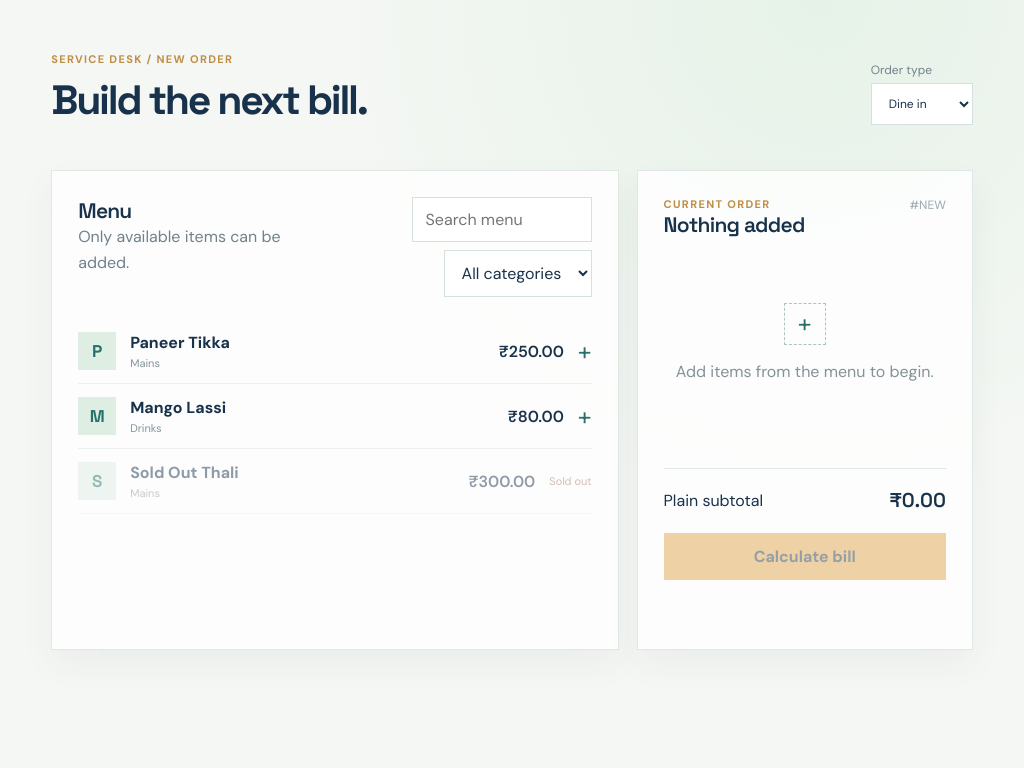
Test: NewOrder › shows the static payment screen after finalizing the bill
Step 1. Click the button "P Paneer Tikka Mains ₹250.00 +" → (97,351), box [78,319,592,384]
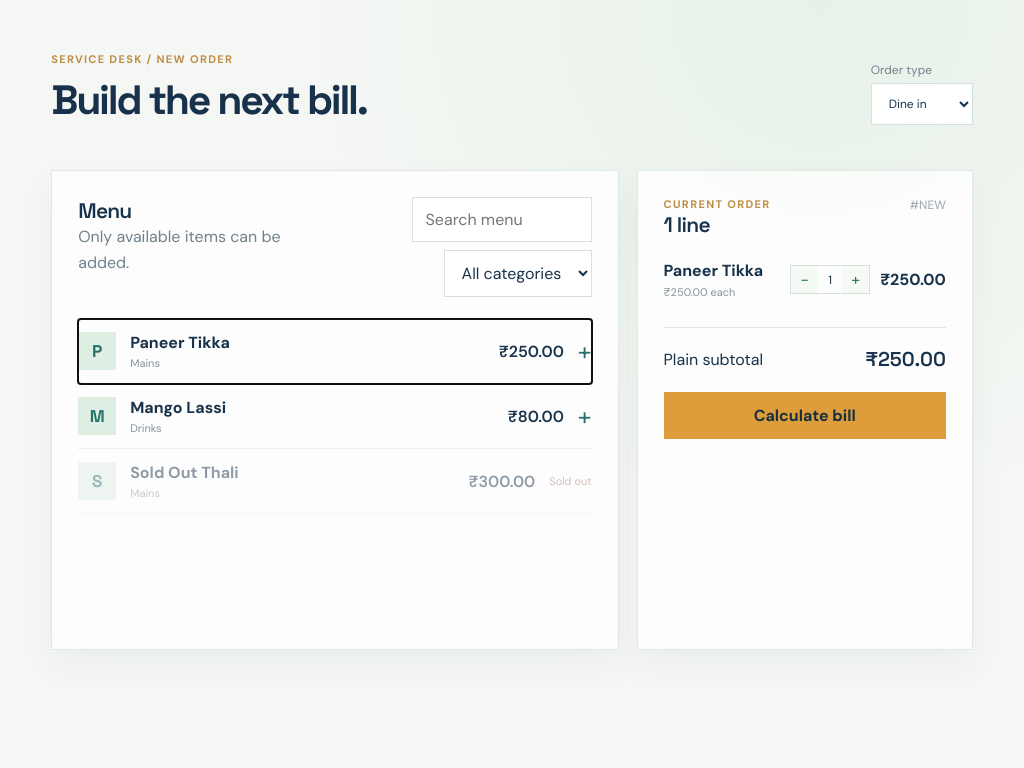
Step 2. Click the button "Calculate bill" → (805,416), box [664,392,946,439]
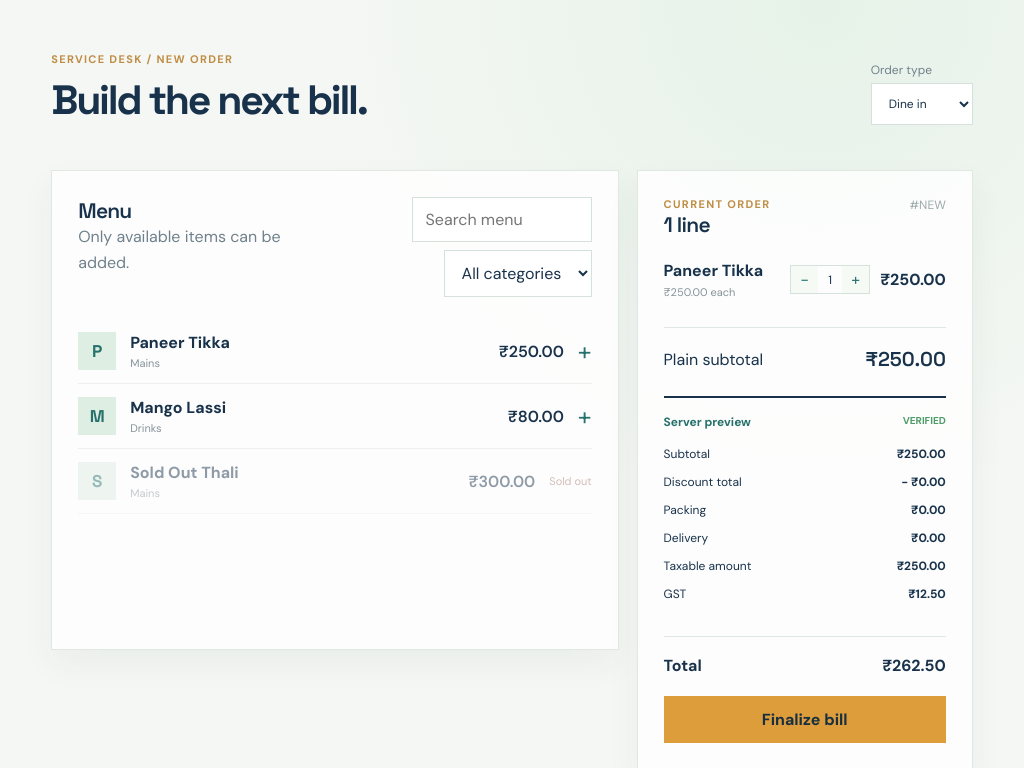
Step 3. Click the button "Finalize bill" → (805,720), box [664,696,946,743]
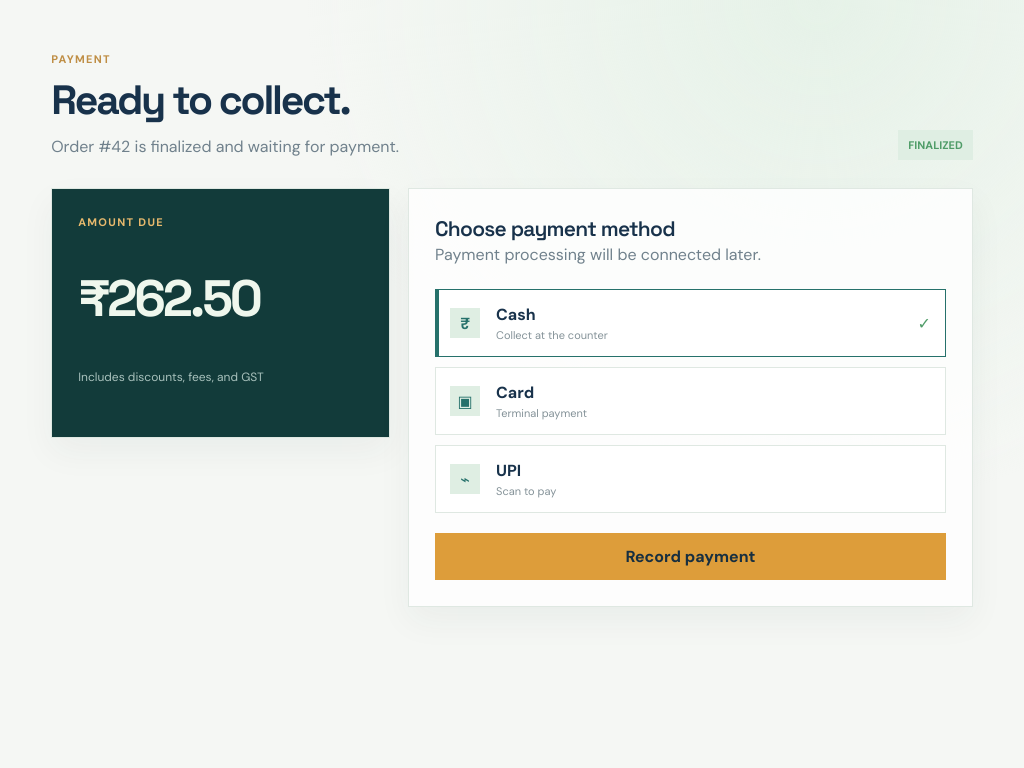
Now the text "₹262.50" is shown, box [78,266,260,331]
Now the heading "Ready to collect." is shown, box [51,74,399,126]
Now the text "Amount due" is shown, box [78,215,164,229]
Step 4. Click the button "Record payment" → (690,557), box [435,533,946,580]
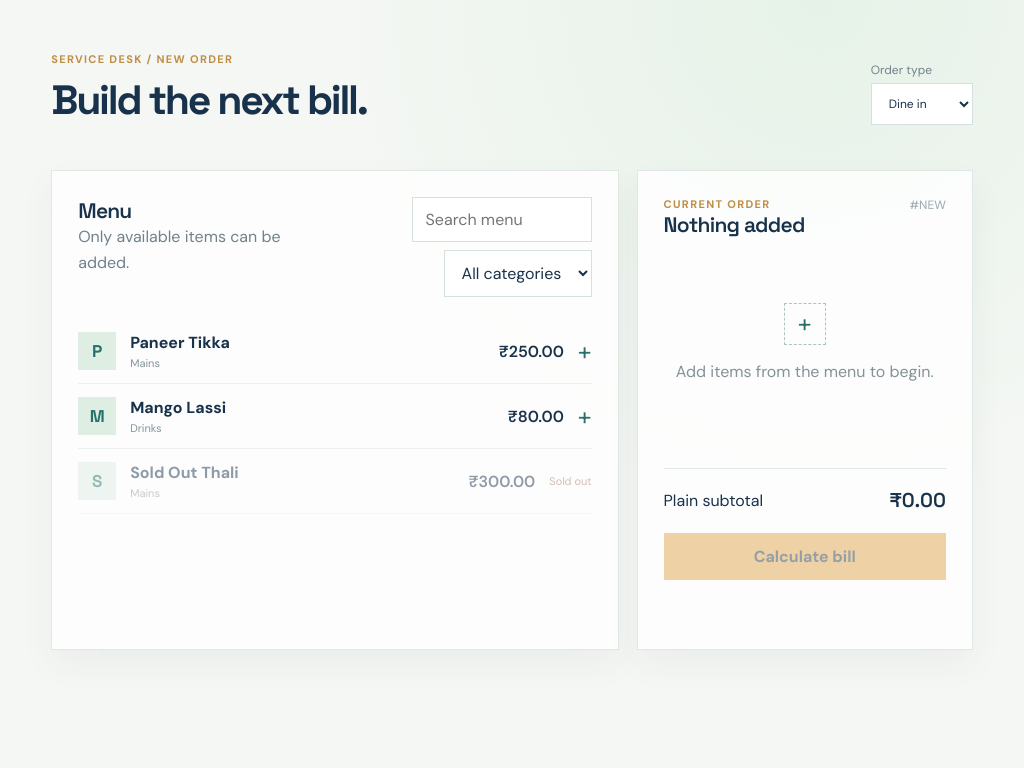
Now the heading "Build the next bill." is shown, box [51,74,367,126]
Now the button "Calculate bill" is disabled, box [664,533,946,580]
